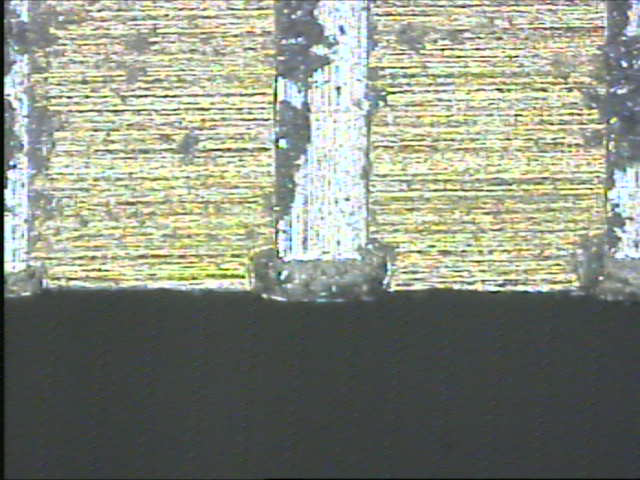line: (272, 1, 373, 310)
